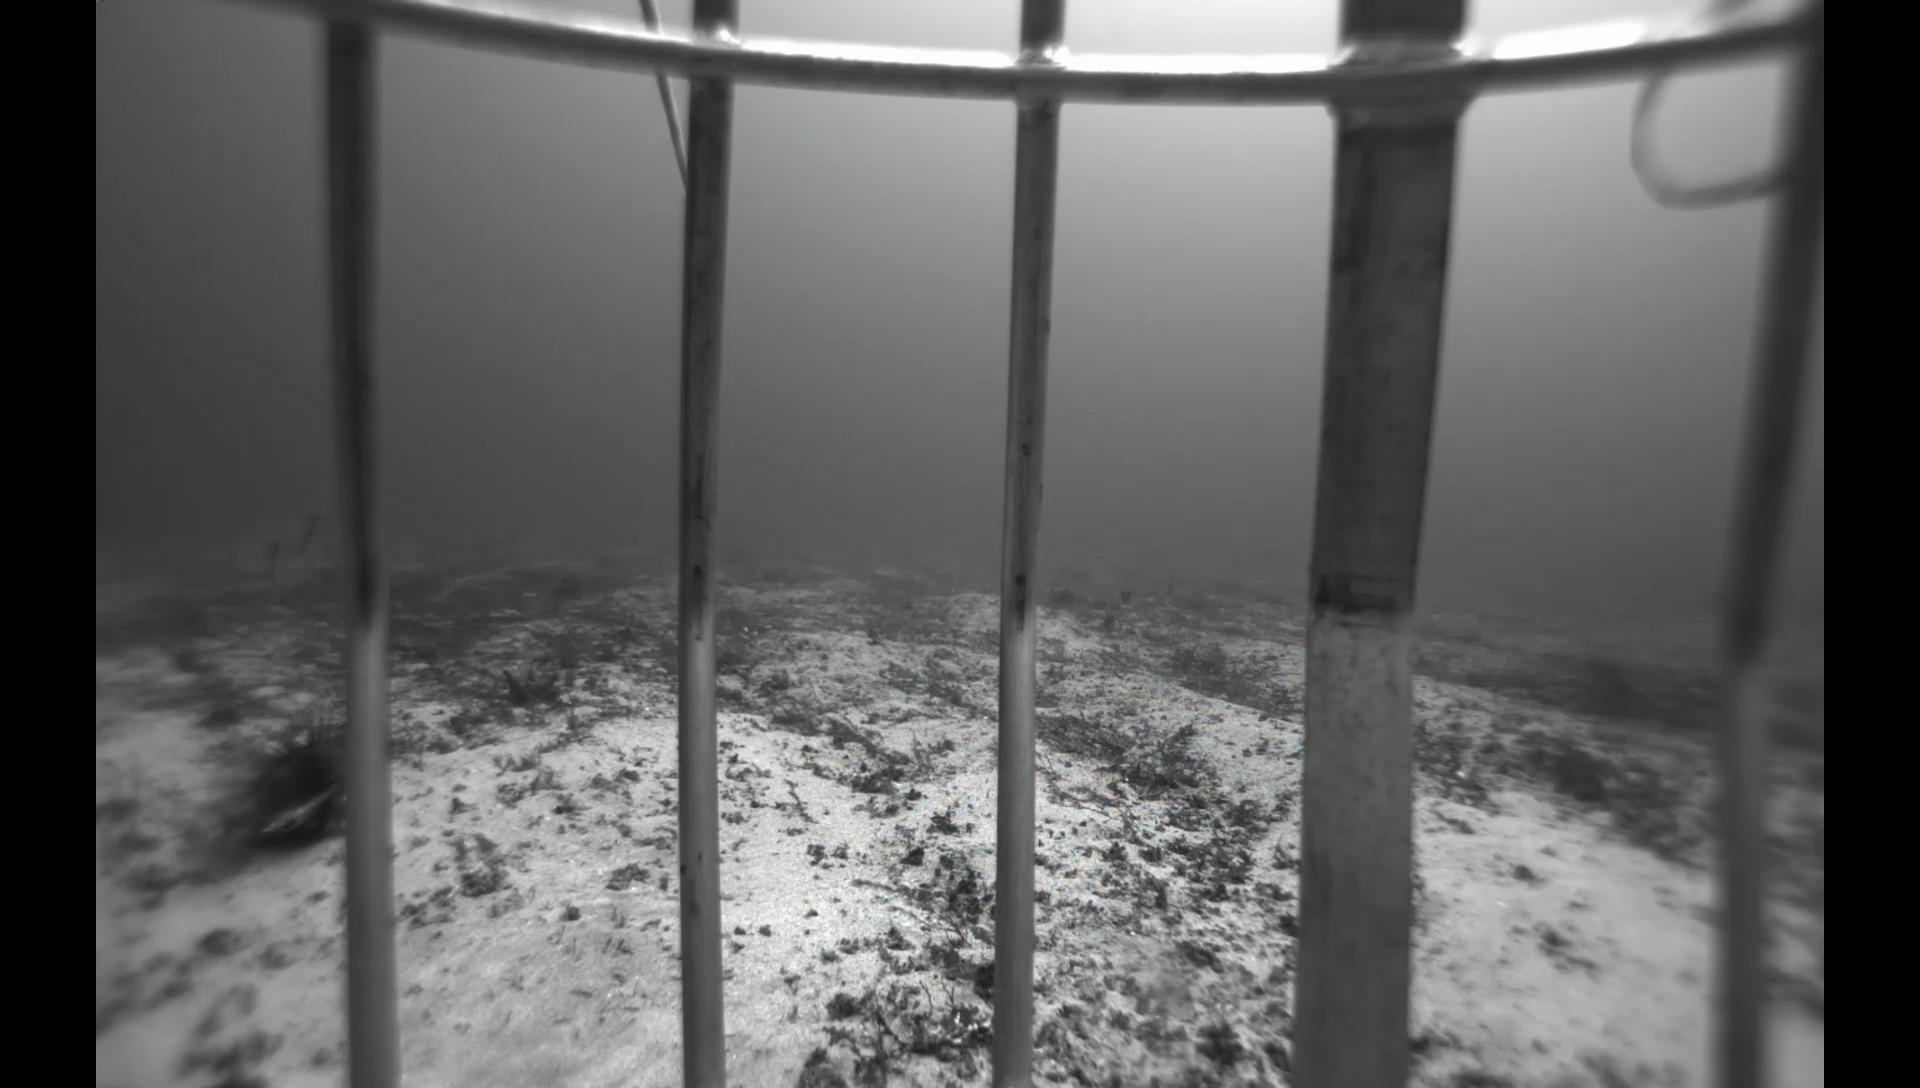EPINEPHELUSMORIO-170021211: (251, 495, 342, 613)
PTEROIS-168011900: (196, 695, 351, 853)
